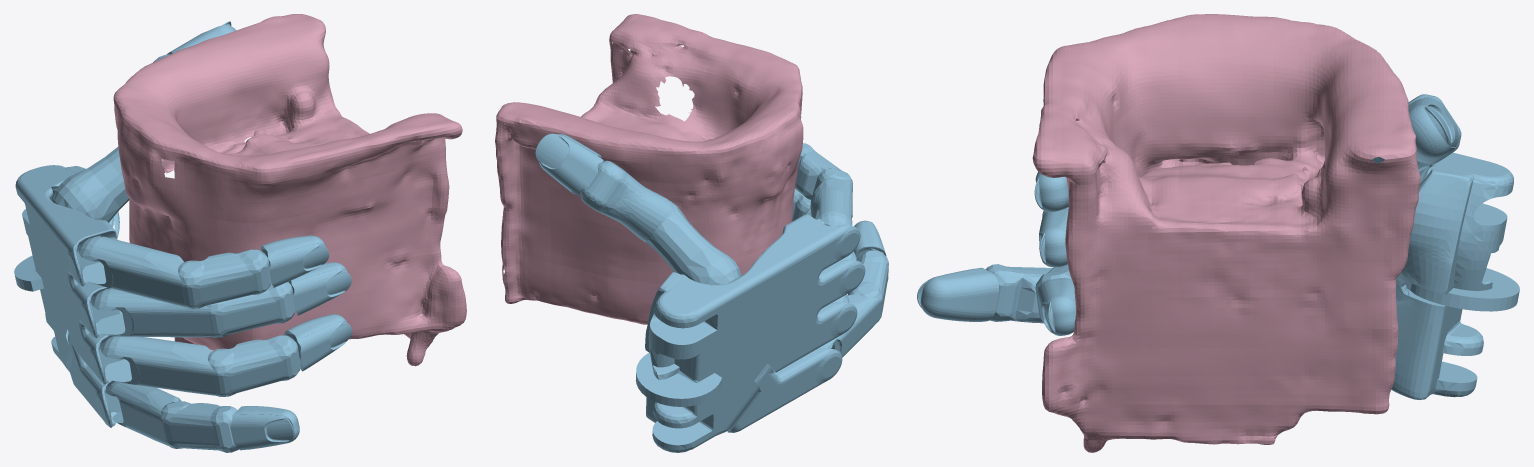
The picture shows the model from 3 angles, left to right: view 1: azimuth 30°, elevation 25°; view 2: azimuth 150°, elevation 25°; view 3: azimuth 270°, elevation 25°; orthographic projection. The views are drawn at different scales.
Parts seen in each view (by area): view 1: world, hand_isaac_q; view 2: world, hand_isaac_q; view 3: world, hand_isaac_q.
Part boxes in pixels (box(x1,y1,x2,y2)): world: box(113, 14, 466, 366); hand_isaac_q: box(14, 21, 352, 452); world: box(495, 14, 803, 324); hand_isaac_q: box(535, 133, 888, 452); world: box(1032, 14, 1420, 452); hand_isaac_q: box(917, 94, 1519, 399).
Bounding box in the file's own units: 0.1555 × 0.1385 × 0.2024.
